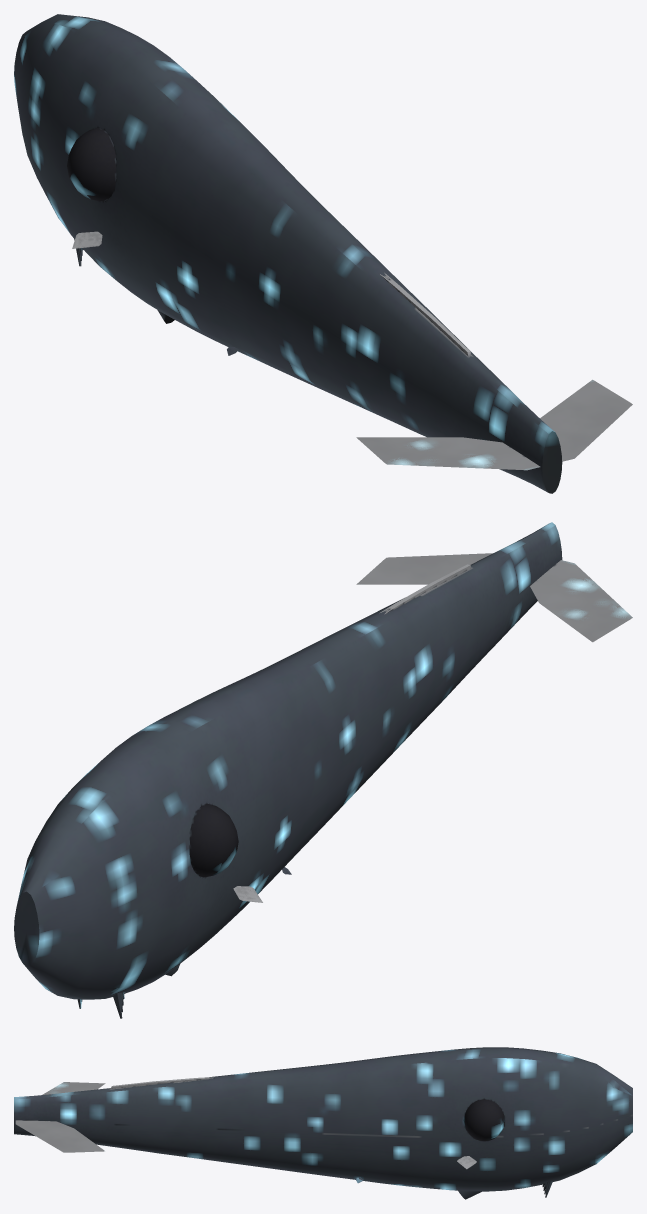
Rendered from chauliodus_sloani.glb.
3 renders of one model, top to bottom at view 1: azimuth 30°, elevation 25°; view 2: azimuth 150°, elevation 25°; view 3: azimuth 270°, elevation 25°, orthographic. The views are drawn at different scales.
Parts seen in each view (by area): view 1: chauliodus_sloani; view 2: chauliodus_sloani; view 3: chauliodus_sloani.
Boxes of the visible parts, x1,y1,x2,y2 form: chauliodus_sloani: (14,14,632,493); chauliodus_sloani: (14,522,632,1018); chauliodus_sloani: (14,1047,632,1199).
Bounding box in the file's own units: 0.2704 × 0.2673 × 1.
2 materials, 2 textured.
